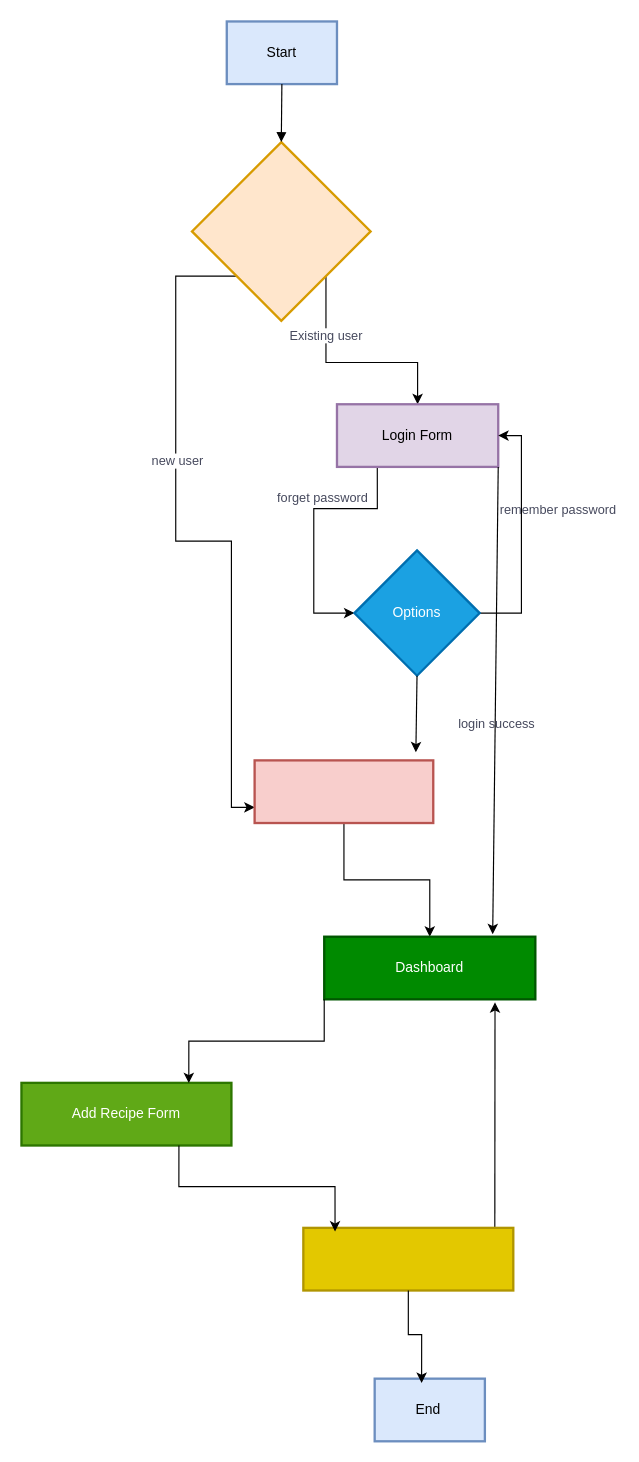
Image size: 639x1462. Some labels were removed from this diagram. The box of each missing label's shape, as (x1, y1, x2, y2) in pixels:
Recipe Details Display (Title/Date/Image): (302, 1226, 514, 1291)
Sign Up Form: (253, 759, 434, 824)
Sign Up/Login: (190, 140, 371, 321)
